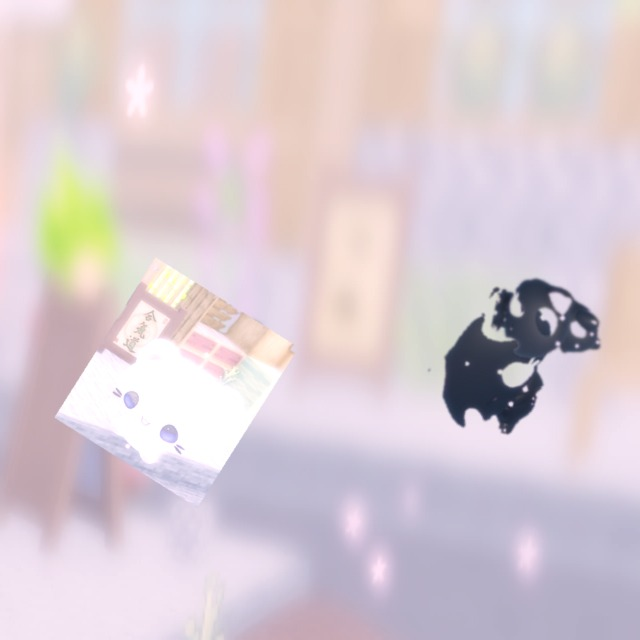urso_branco: (54, 257, 299, 508)
urso_preto: (390, 246, 605, 480), (485, 268, 619, 381), (226, 312, 269, 355)
